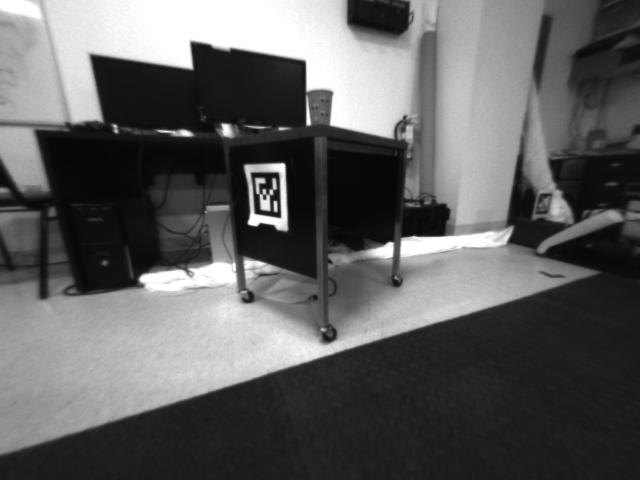coffee_cup: (303, 88, 334, 127)
